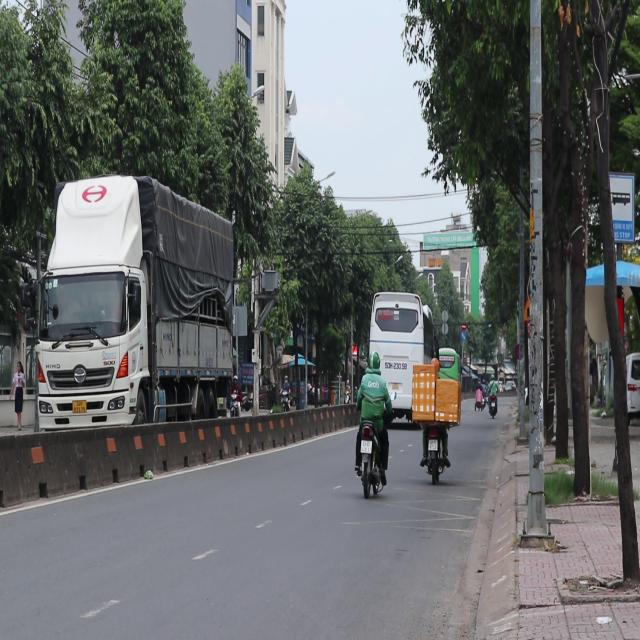helmet: (366, 350, 380, 370)
licenseplate: (352, 349, 391, 497)
nohelmet: (361, 440, 372, 452)
